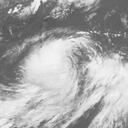cyclone: (21, 38, 81, 88)
